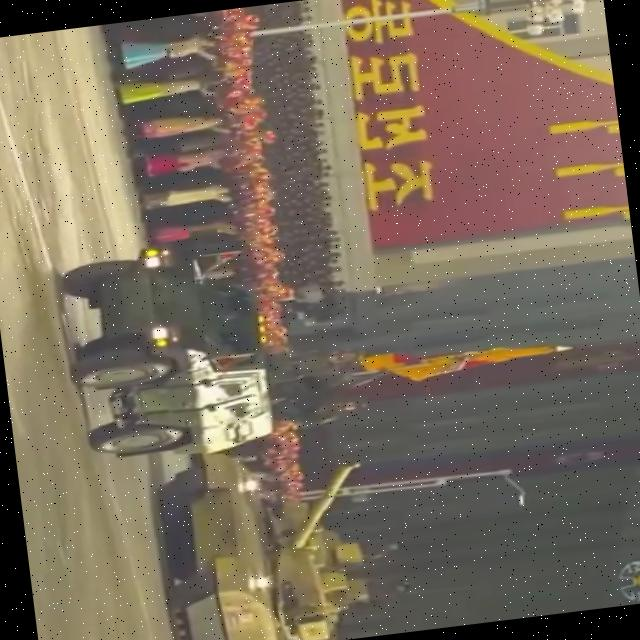north tank: (109, 427, 404, 640)
